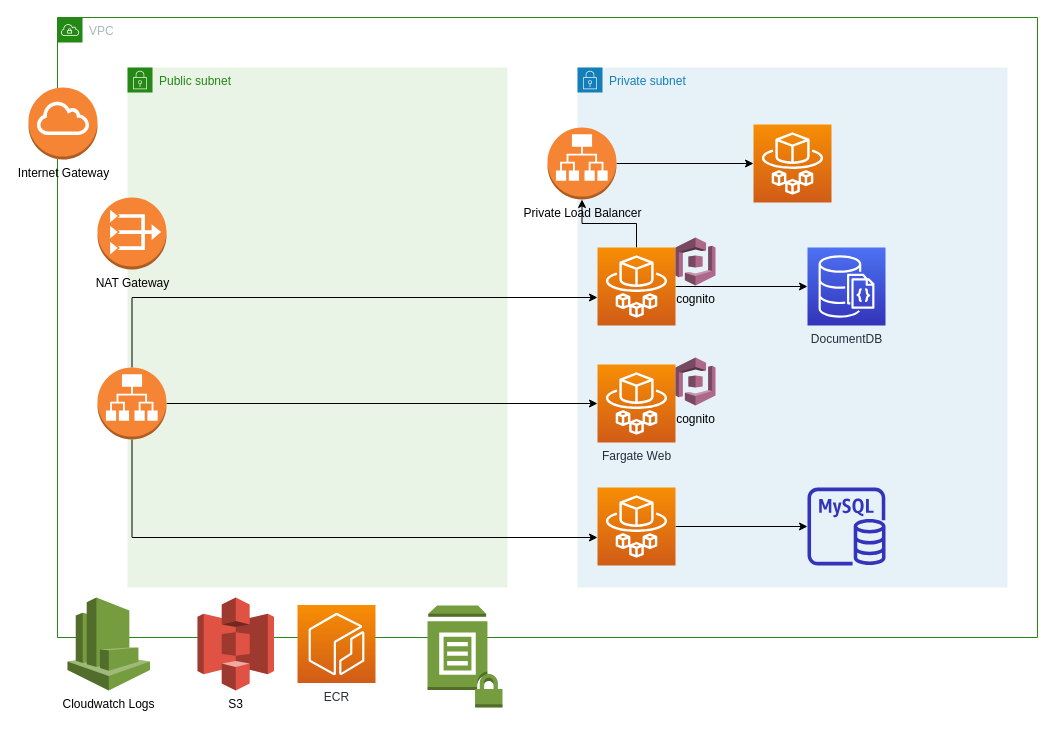
This 1055x746 diagram has some shape labels left out. The centre of each missing label's shape, as x and y in pixels:
"Fargate API" belongs at point 636,286.
"Fargate Gophish" belongs at point 636,526.
"Fargate Reports" belongs at point 792,163.
"Public Load Balancer" belongs at point 131,403.
"RDS" belongs at point 846,526.
"SSM Parameter Store" belongs at point 464,656.
